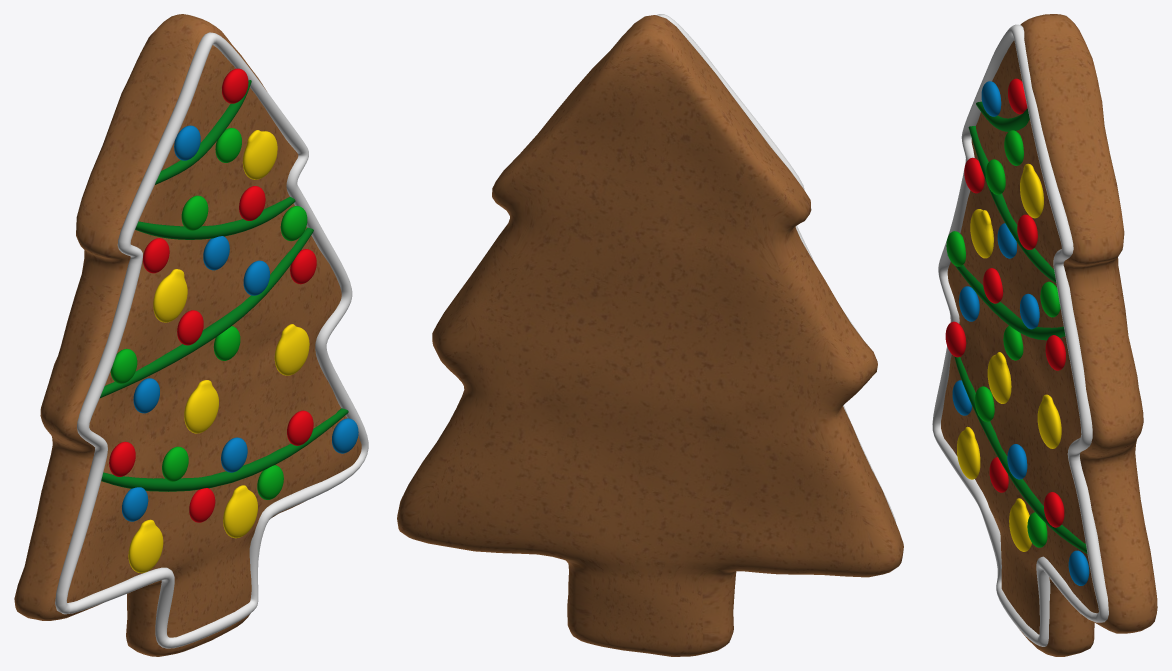
Rendered from christmas_tree_gingerbread_cookie_arbol_navidad_1.glb.
3 views of the same model, side by side, from view 1: azimuth 30°, elevation 25°; view 2: azimuth 150°, elevation 25°; view 3: azimuth 270°, elevation 25° (orthographic).
Visible parts, largest first — view 1: Plane_1, Simple_GP_Layer_4, Simple_GP_Layer004_5, Roundcube028_9, Roundcube007_6, Roundcube014_8, Roundcube012_7; view 2: Plane_1, Simple_GP_Layer_4; view 3: Plane_1, Simple_GP_Layer_4, Roundcube028_9, Simple_GP_Layer004_5, Roundcube007_6, Roundcube012_7, Roundcube014_8.
Boxes of the visible parts, box(x1,y1,x2,y2) form: Plane_1: box(14, 14, 361, 656); Simple_GP_Layer_4: box(55, 32, 368, 648); Simple_GP_Layer004_5: box(100, 80, 348, 491); Roundcube028_9: box(128, 130, 309, 573); Roundcube007_6: box(109, 68, 316, 522); Roundcube014_8: box(122, 125, 358, 521); Roundcube012_7: box(110, 128, 307, 499); Plane_1: box(397, 15, 903, 656); Simple_GP_Layer_4: box(656, 14, 896, 523); Plane_1: box(941, 14, 1157, 656); Simple_GP_Layer_4: box(932, 24, 1108, 646); Roundcube028_9: box(957, 163, 1061, 551); Simple_GP_Layer004_5: box(947, 101, 1087, 553); Roundcube007_6: box(945, 78, 1065, 527); Roundcube012_7: box(946, 130, 1060, 547); Roundcube014_8: box(952, 81, 1089, 585).
Size of the model in its own units: 4.75 by 6.72 by 2.22.
7 materials, 1 textured.
